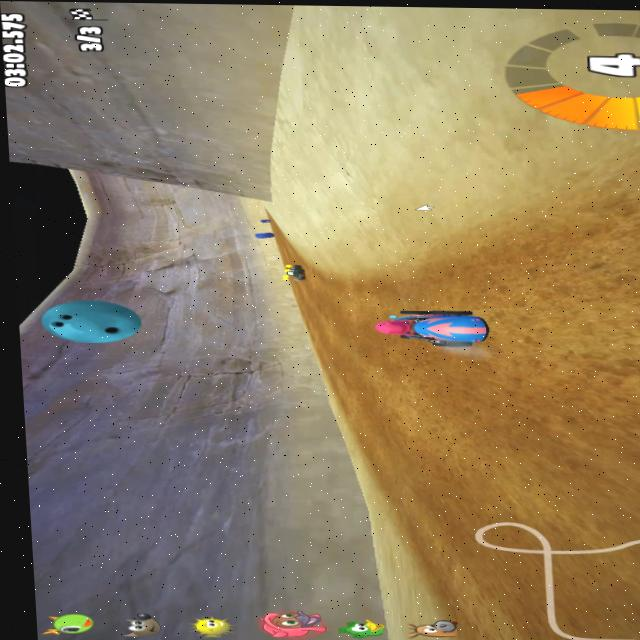bonus: (256, 229, 278, 239)
enemy_kart: (280, 258, 313, 283)
player_kart: (371, 302, 510, 350)
track: (448, 350, 640, 640), (498, 192, 640, 352), (362, 349, 451, 502), (326, 273, 375, 423), (368, 260, 502, 302), (403, 501, 453, 561), (307, 284, 335, 353), (277, 242, 296, 259), (298, 285, 306, 300)
